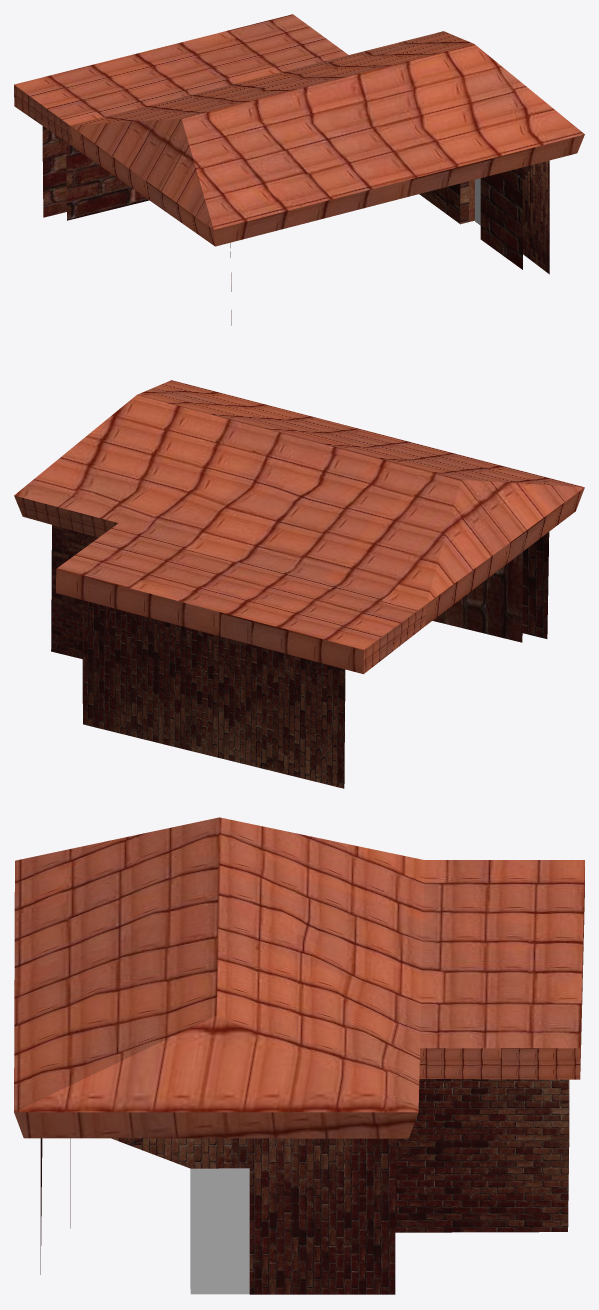
The model's file is Rumah.fbx.
The picture shows the model from 3 angles, top to bottom: view 1: azimuth 30°, elevation 25°; view 2: azimuth 150°, elevation 25°; view 3: azimuth 270°, elevation 25°; orthographic projection. The views are drawn at different scales.
Parts seen in each view (by area): view 1: Atap.002, Rumah Bu Inah; view 2: Atap.002, Rumah Bu Inah; view 3: Atap.002, Rumah Bu Inah, Pintu.002.
Boxes of the visible parts, bbox=[...] form: Atap.002: bbox=[14, 14, 584, 246]; Rumah Bu Inah: bbox=[42, 126, 549, 325]; Atap.002: bbox=[14, 380, 584, 674]; Rumah Bu Inah: bbox=[51, 525, 549, 788]; Atap.002: bbox=[14, 817, 584, 1138]; Rumah Bu Inah: bbox=[40, 1079, 569, 1294]; Pintu.002: bbox=[190, 1168, 249, 1294].
Size of the model in its own units: 1247 by 605 by 1158.
